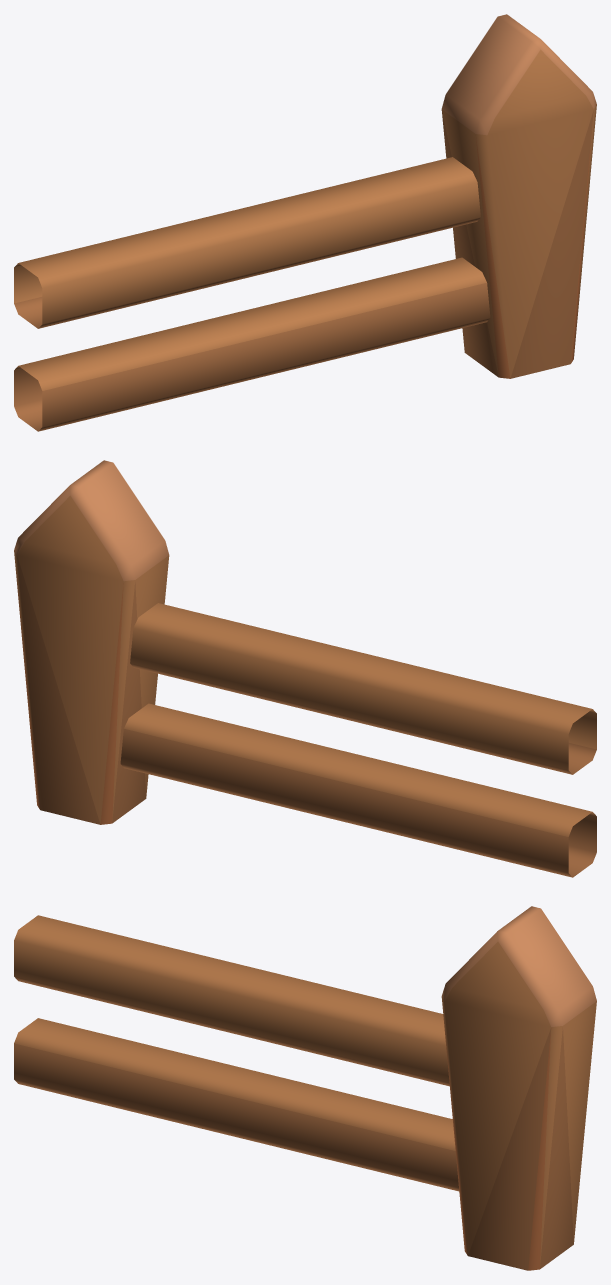
The model's file is itch_tiny_homely_house_fence_open_wide_long.glb.
The picture shows the model from 3 angles, top to bottom: view 1: azimuth 30°, elevation 25°; view 2: azimuth 150°, elevation 25°; view 3: azimuth 330°, elevation 25°; orthographic projection.
Parts seen in each view (by area): view 1: fence_open_wide_long; view 2: fence_open_wide_long; view 3: fence_open_wide_long.
Boxes of the visible parts, <box> form: fence_open_wide_long: <box>14,14,596,431</box>; fence_open_wide_long: <box>14,460,596,877</box>; fence_open_wide_long: <box>14,906,596,1270</box>.
Size of the model in its own units: 1.18 by 0.6706 by 0.1575.
